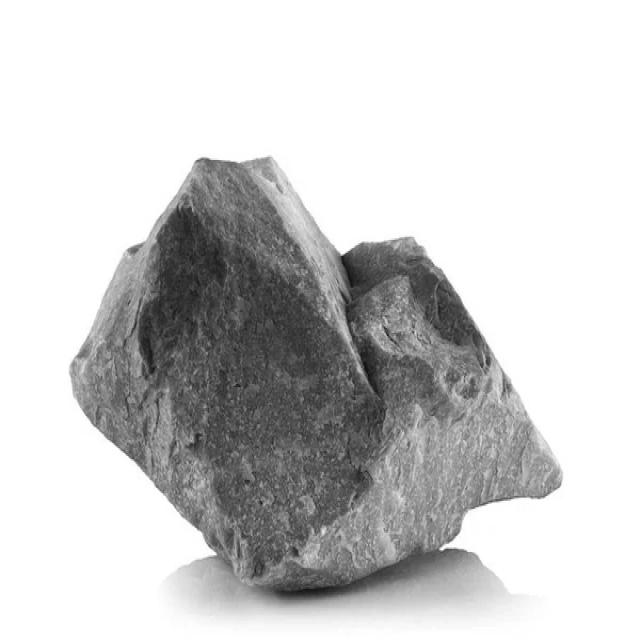Stone: (72, 158, 564, 592)
